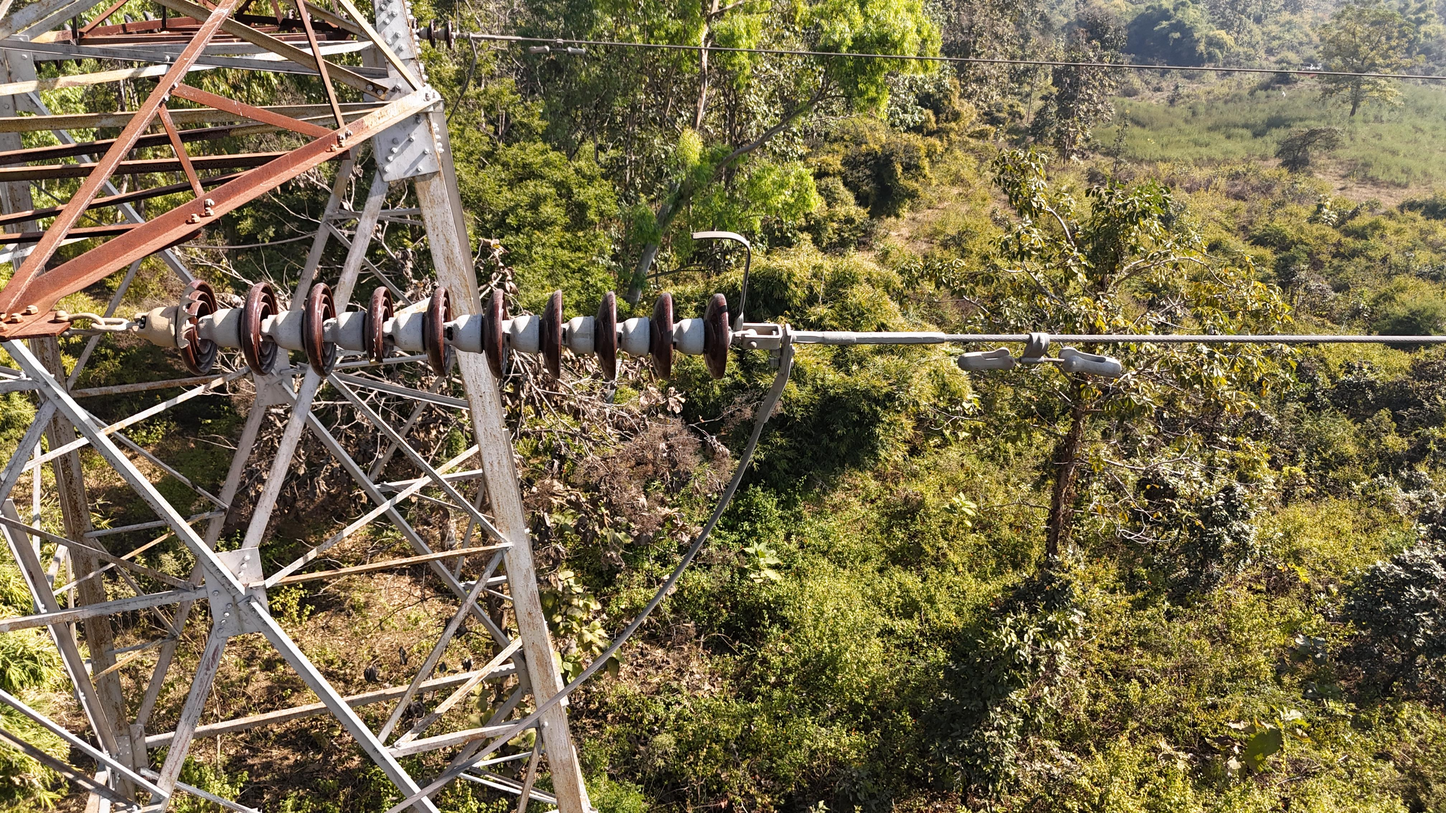broken_insulator: (173, 278, 217, 376), (362, 286, 395, 375)
